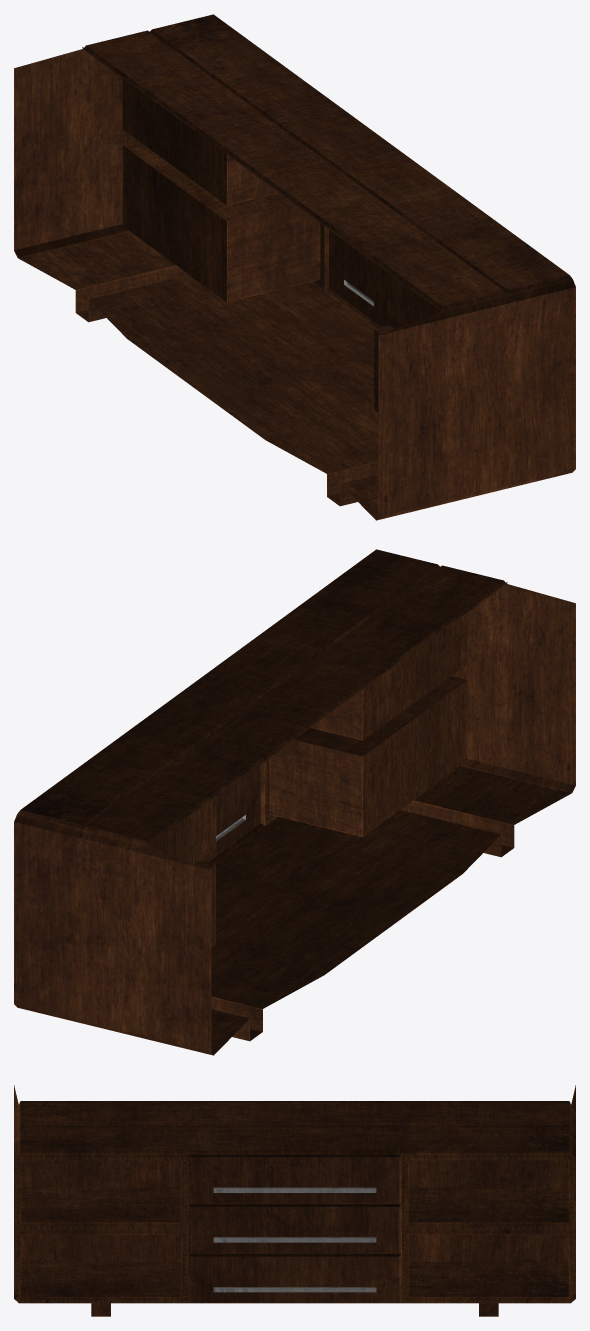
The model's file is tymbochka y direktora.fbx.
3 renders of one model, top to bottom at view 1: azimuth 30°, elevation 25°; view 2: azimuth 150°, elevation 25°; view 3: azimuth 270°, elevation 25°, orthographic. The views are drawn at different scales.
Visible parts, largest first — view 1: obj3; view 2: obj3; view 3: obj3.
Boxes of the visible parts, left/top/right/bottom form: obj3: left=14, top=14, right=575, bottom=520; obj3: left=14, top=549, right=575, bottom=1055; obj3: left=14, top=1085, right=575, bottom=1316.
Bounding box in the file's own units: 0.9071 × 0.9369 × 2.81.
